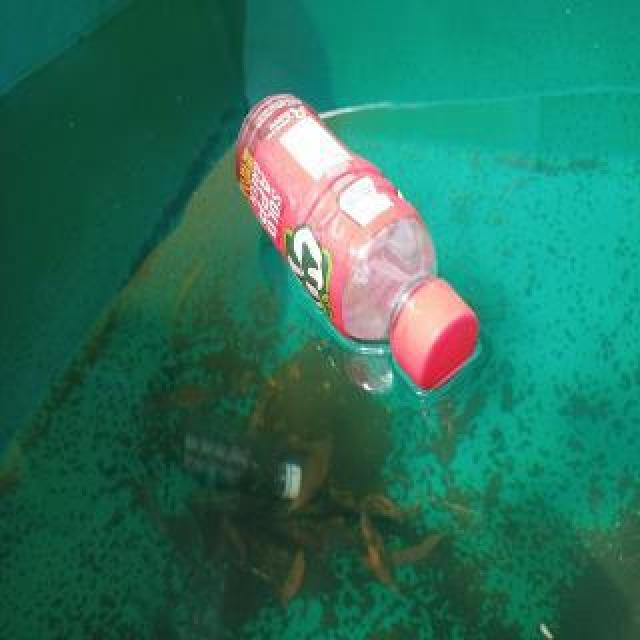bottle: (232, 89, 480, 395)
